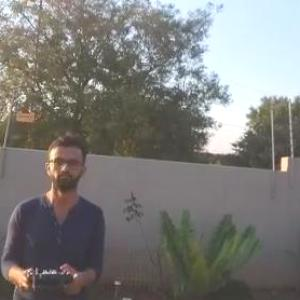follow: (0, 133, 108, 299)
